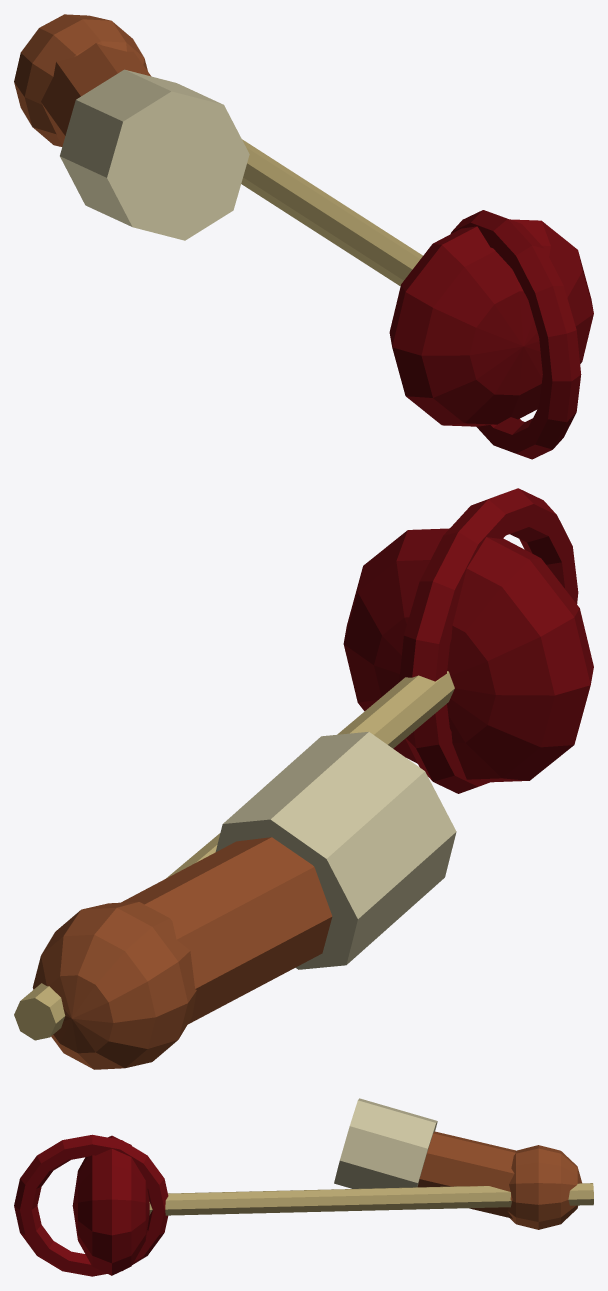
Rendered from Resident10RightArm.obj.
3 renders of one model, top to bottom at view 1: azimuth 30°, elevation 25°; view 2: azimuth 150°, elevation 25°; view 3: azimuth 270°, elevation 25°, orthographic. The views are drawn at different scales.
Visible parts, largest first — view 1: Resident10RightArm; view 2: Resident10RightArm; view 3: Resident10RightArm.
Part boxes in pixels (x1=…): Resident10RightArm: x1=14, y1=14, x2=593, y2=459; Resident10RightArm: x1=14, y1=488, x2=593, y2=1069; Resident10RightArm: x1=14, y1=1098, x2=593, y2=1276.
Size of the model in its own units: 51.87 by 40 by 148.
